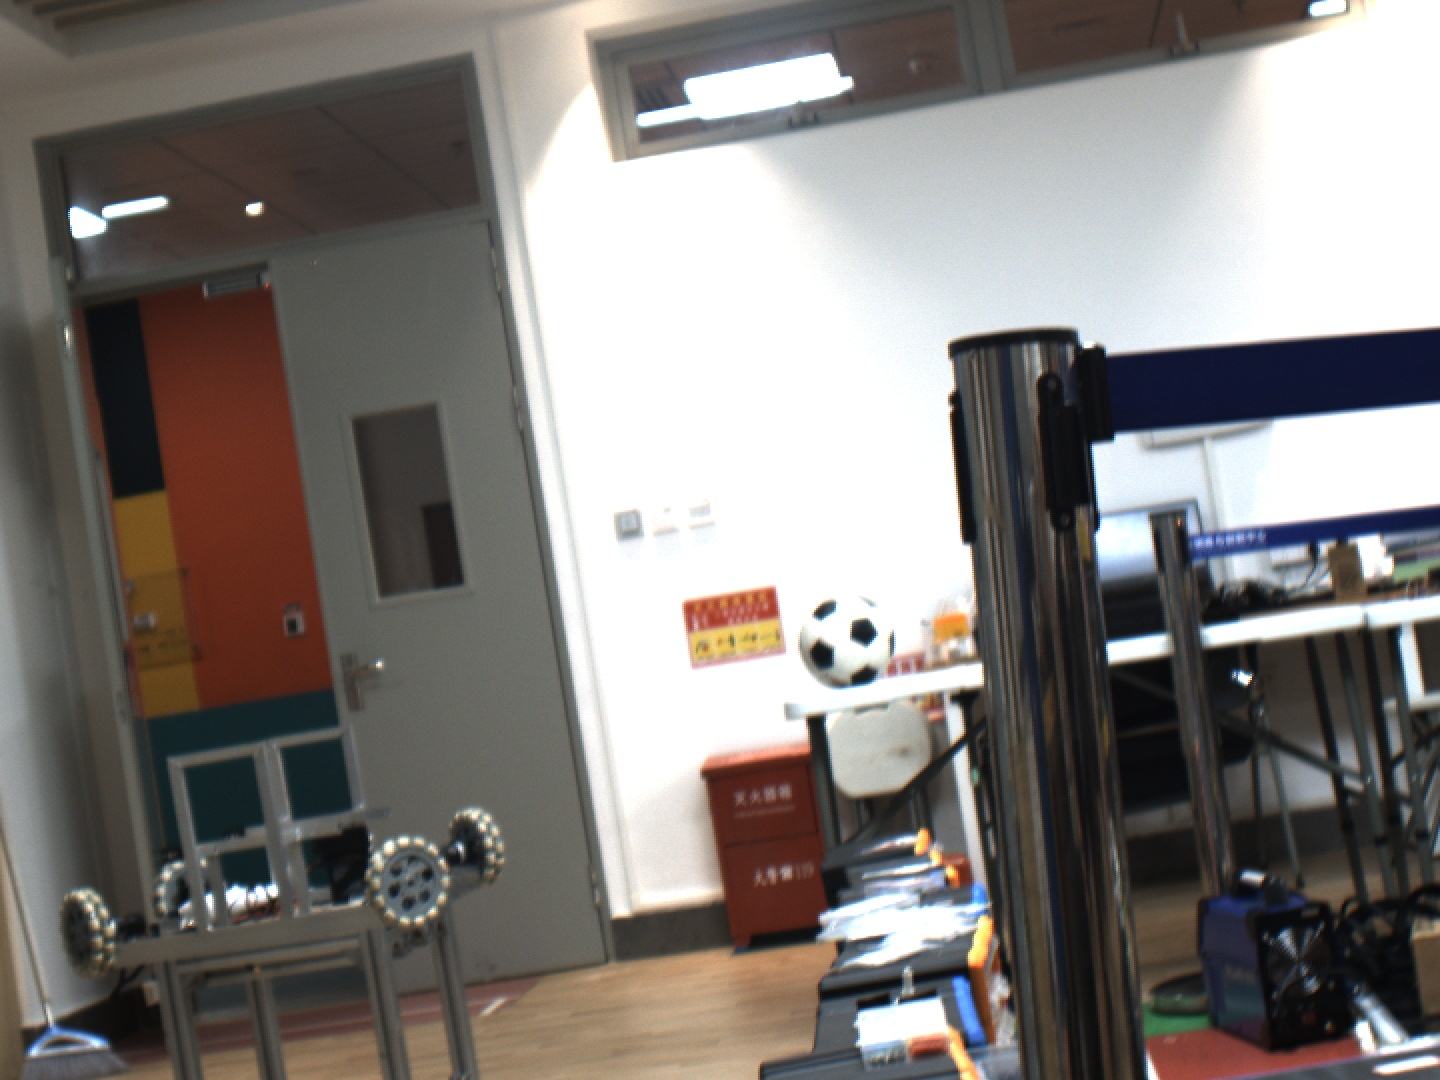ball: (789, 588, 906, 695)
